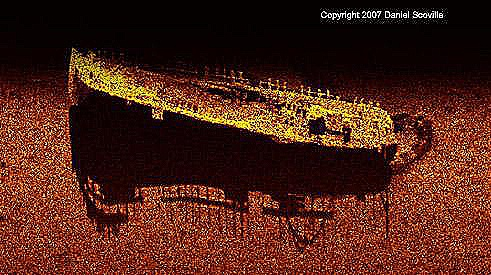ship: (66, 45, 399, 153)
